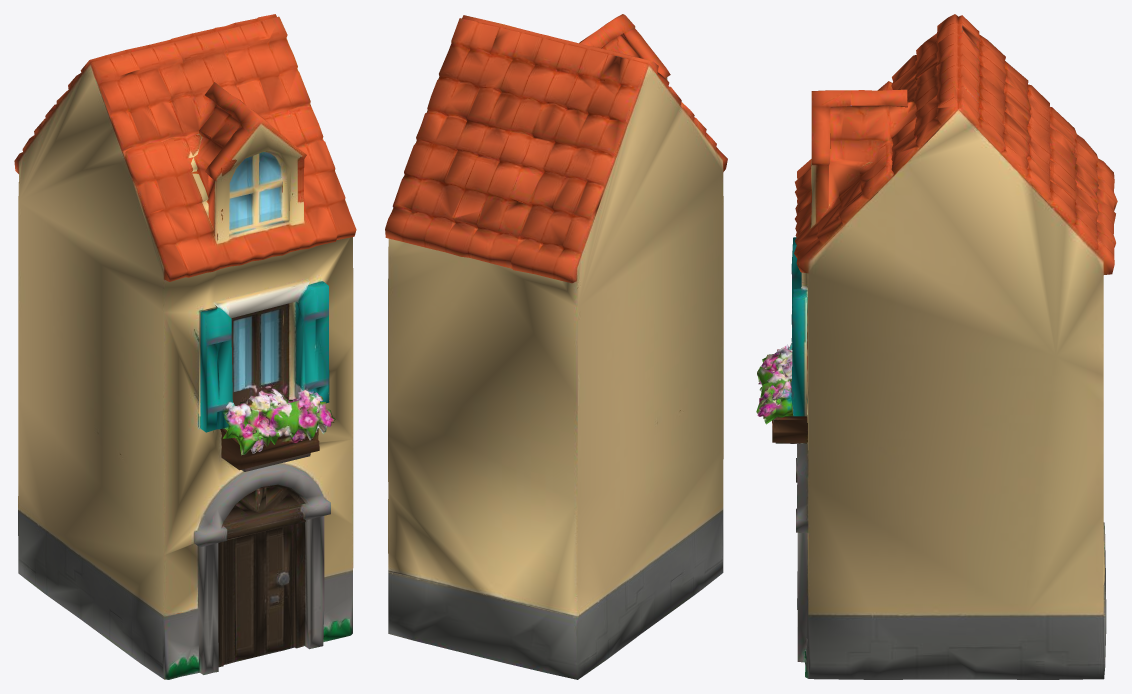
Rendered from house_terra_1.glb.
The picture shows the model from 3 angles, left to right: view 1: azimuth 30°, elevation 25°; view 2: azimuth 150°, elevation 25°; view 3: azimuth 270°, elevation 25°; orthographic projection.
Visible parts, largest first — view 1: ЦІЛЬ; view 2: ЦІЛЬ; view 3: ЦІЛЬ.
Boxes of the visible parts, <box> form: ЦІЛЬ: <box>14,14,356,679</box>; ЦІЛЬ: <box>385,14,727,679</box>; ЦІЛЬ: <box>756,14,1117,679</box>.
Bounding box in the file's own units: 0.7493 × 2.1 × 1.2.
1 material, 1 textured.
